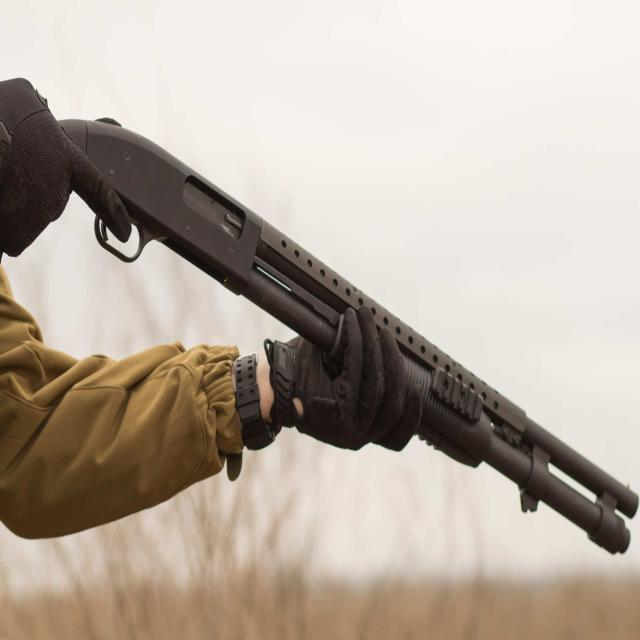ShotGun: (55, 120, 640, 557)
